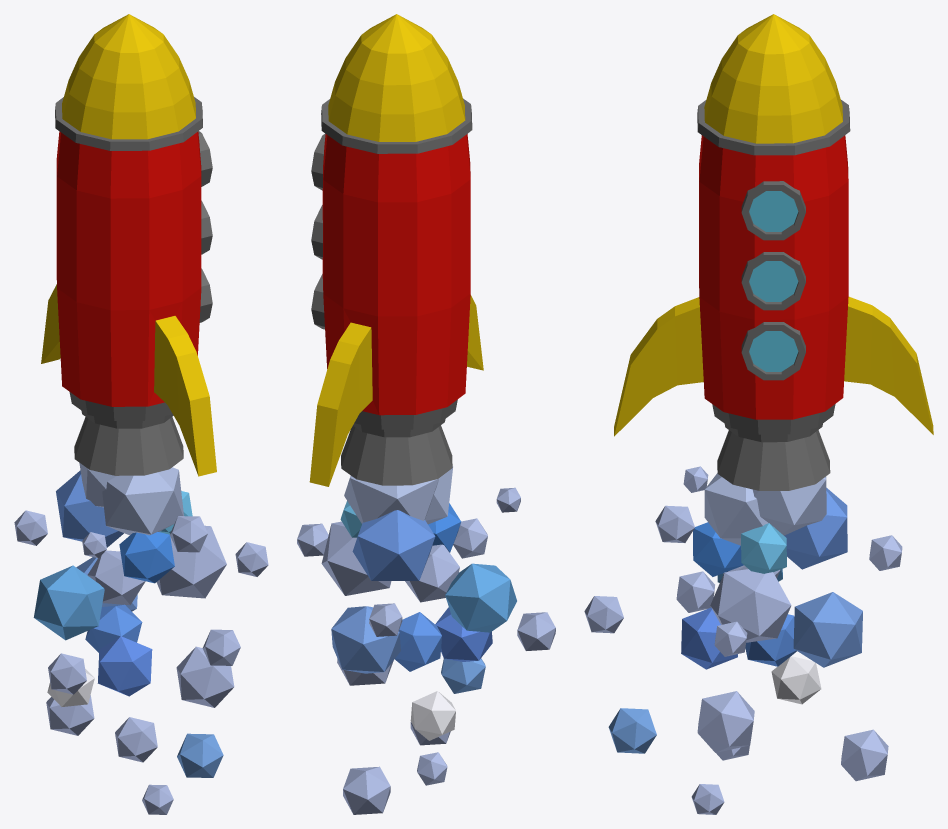
File: RocketComplete.fbx
3 renders of one model, left to right at view 1: azimuth 30°, elevation 25°; view 2: azimuth 150°, elevation 25°; view 3: azimuth 270°, elevation 25°, orthographic. The views are drawn at different scales.
Visible parts, largest first — view 1: Cylinder, Cylinder.003, Icosphere, Icosphere.014, Icosphere.013, Icosphere.009, Icosphere.003, Icosphere.018, Icosphere.002, Icosphere.007, Icosphere.020, Icosphere.010 (+15 smaller); view 2: Cylinder, Cylinder.003, Icosphere.003, Icosphere.014, Icosphere.008, Icosphere.001, Icosphere.013, Icosphere.010, Icosphere.019, Icosphere.009, Icosphere.007, Icosphere.022 (+14 smaller); view 3: Cylinder, Cylinder.003, Icosphere.013, Icosphere.008, Circle.001, Circle.003, Circle.002, Icosphere.003, Icosphere, Icosphere.018, Icosphere.001, Icosphere.009 (+14 smaller).
Part boxes in pixels (x1,y1,x2,y2): Cylinder: (41, 14, 216, 476); Cylinder.003: (74, 417, 183, 475); Icosphere: (102, 467, 183, 535); Icosphere.014: (33, 565, 104, 640); Icosphere.013: (156, 525, 226, 598); Icosphere.009: (97, 636, 152, 696); Icosphere.003: (56, 470, 123, 547); Icosphere.018: (176, 646, 234, 707); Icosphere.002: (119, 532, 174, 583); Icosphere.007: (87, 550, 145, 605); Icosphere.020: (177, 733, 223, 777); Icosphere.010: (85, 604, 142, 652); Cylinder: (309, 14, 483, 486); Cylinder.003: (341, 425, 452, 485); Icosphere.003: (352, 510, 435, 580); Icosphere.014: (445, 563, 516, 632); Icosphere.008: (331, 606, 400, 673); Icosphere.001: (344, 475, 439, 523); Icosphere.013: (321, 521, 391, 595); Icosphere.010: (395, 612, 441, 671); Icosphere.019: (343, 766, 390, 814); Icosphere.009: (435, 607, 492, 661); Icosphere.007: (405, 544, 459, 602); Icosphere.022: (410, 691, 455, 740); Cylinder: (614, 14, 933, 436); Cylinder.003: (717, 430, 830, 490); Icosphere.013: (710, 569, 791, 642); Icosphere.008: (793, 592, 862, 667); Circle.001: (741, 181, 805, 240); Circle.003: (741, 322, 805, 380); Circle.002: (741, 252, 805, 310); Icosphere.003: (784, 487, 847, 569); Icosphere: (704, 473, 774, 545); Icosphere.018: (697, 691, 754, 752); Icosphere.001: (752, 476, 826, 535); Icosphere.009: (681, 607, 737, 669).
Size of the model in its own units: 362 by 1145 by 452.
